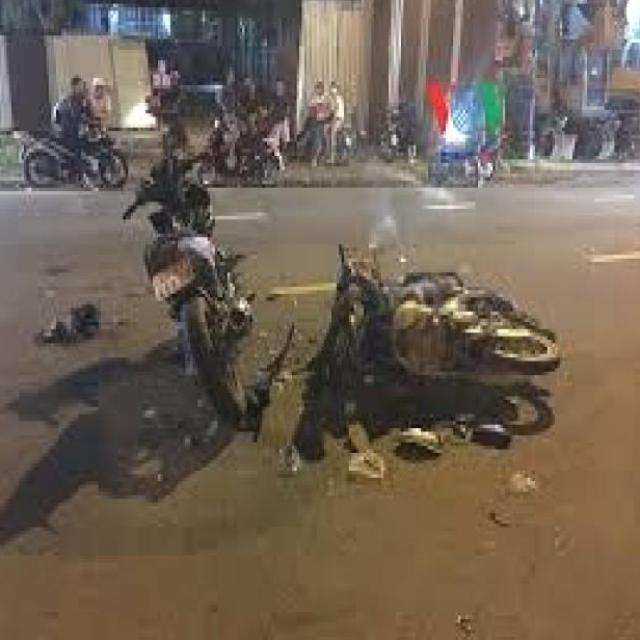accident: (86, 128, 314, 445), (297, 221, 580, 443)
